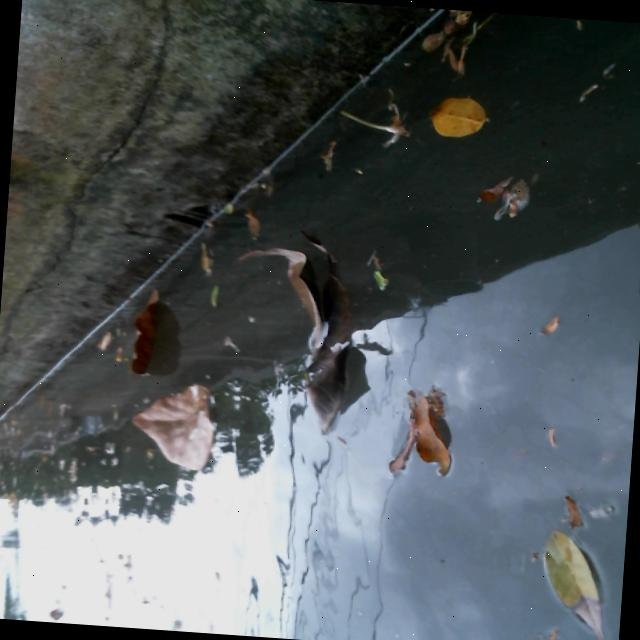Big-leaf: (229, 229, 372, 445), (379, 354, 482, 484), (127, 374, 231, 478), (123, 277, 168, 373)
Small-leaf: (525, 525, 619, 640), (417, 90, 494, 149), (471, 171, 548, 224), (86, 325, 122, 365), (205, 278, 237, 319), (193, 228, 220, 276), (230, 203, 268, 235)
